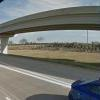Bridge: (3, 5, 98, 45)
